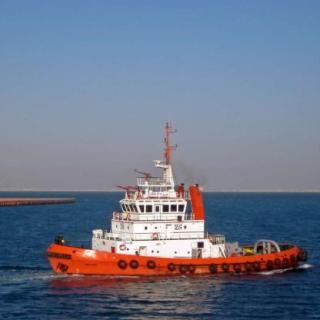Tug Boat: (47, 162, 298, 274)
